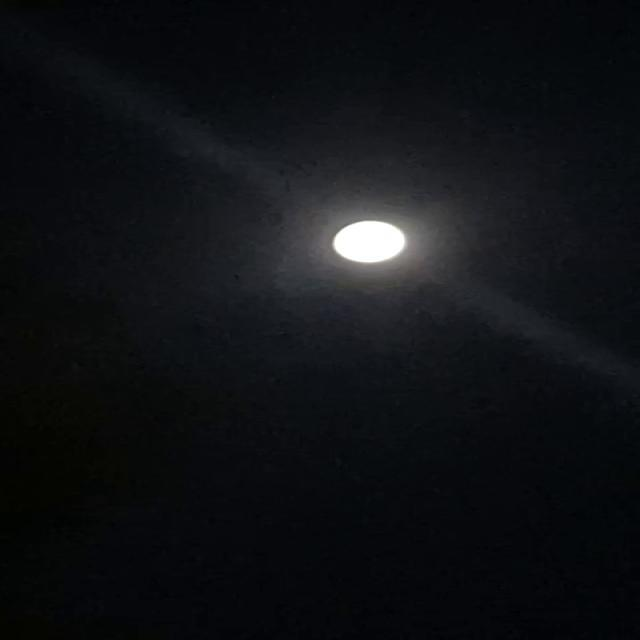moon: (314, 213, 430, 271)
